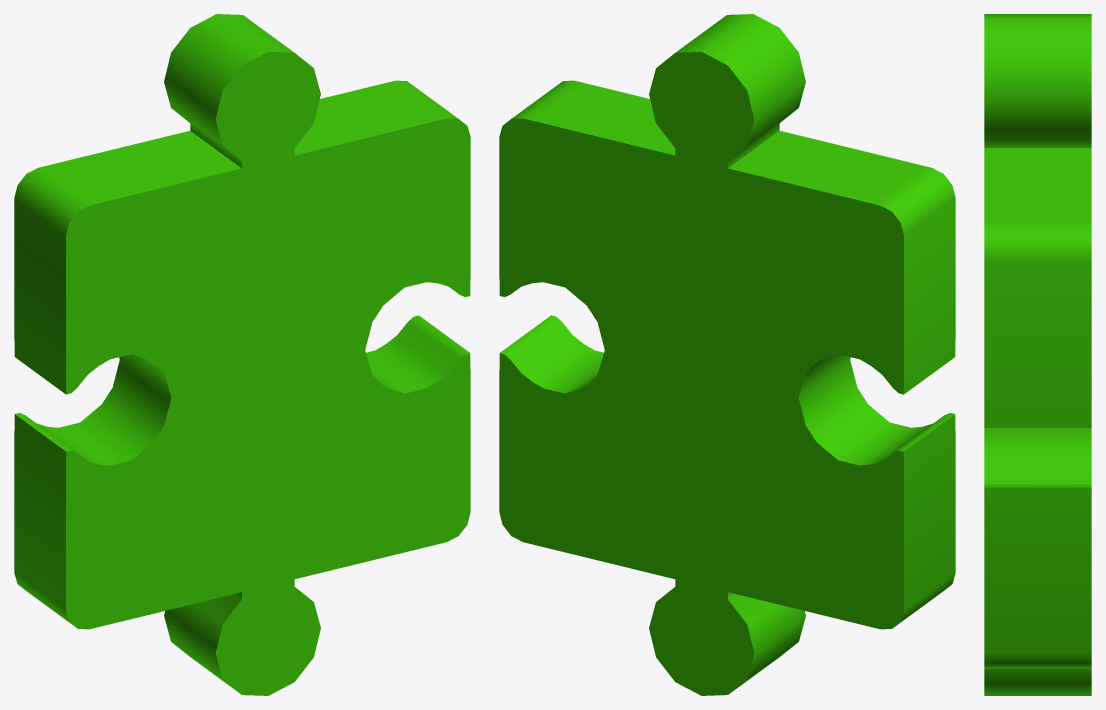
File: Jigsaw.FBX
3 views of the same model, side by side, from view 1: azimuth 30°, elevation 25°; view 2: azimuth 150°, elevation 25°; view 3: azimuth 270°, elevation 25° (orthographic). The views are drawn at different scales.
Visible parts, largest first — view 1: Jigsaw; view 2: Jigsaw; view 3: Jigsaw.
Part boxes in pixels (x1,y1,x2,y2): Jigsaw: (14, 14, 470, 695); Jigsaw: (499, 14, 955, 695); Jigsaw: (984, 14, 1091, 695).
Size of the model in its own units: 63.37 by 96.34 by 14.
